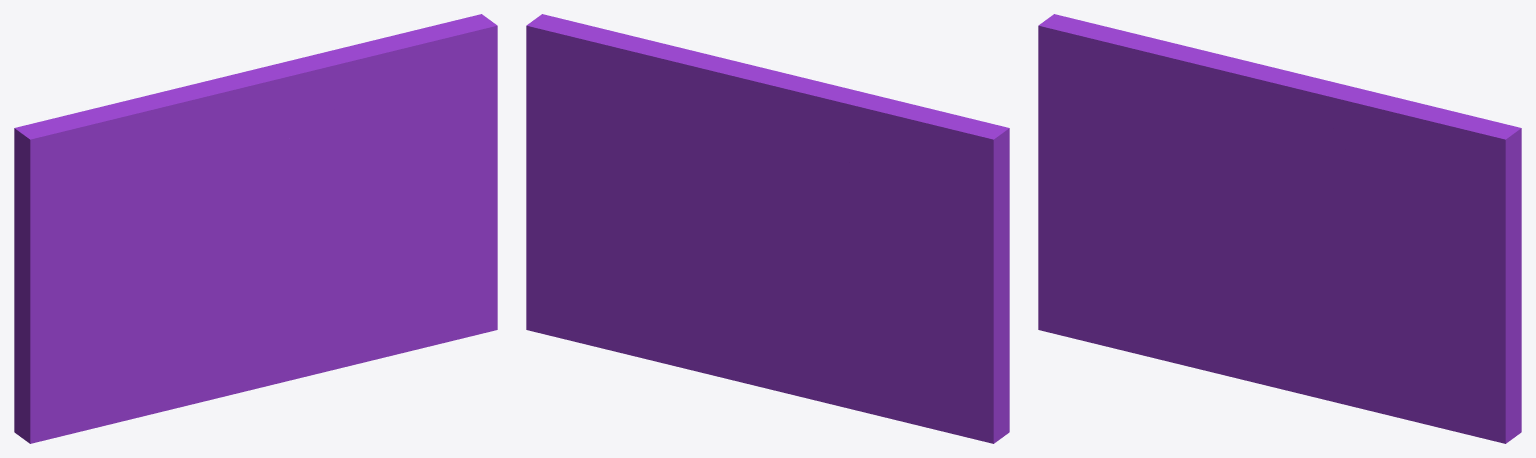
File: Barrier_215_chunks.fbx
The picture shows the model from 3 angles, left to right: view 1: azimuth 30°, elevation 25°; view 2: azimuth 150°, elevation 25°; view 3: azimuth 330°, elevation 25°; orthographic projection.
Parts seen in each view (by area): view 1: Barrier_215_1, Barrier_215_2, Barrier_215_0, Barrier_215_6, Barrier_215_3, Barrier_215_4, Barrier_215_5; view 2: Barrier_215_1, Barrier_215_2, Barrier_215_5, Barrier_215_6, Barrier_215_4, Barrier_215_0, Barrier_215_3; view 3: Barrier_215_1, Barrier_215_2, Barrier_215_0, Barrier_215_6, Barrier_215_3, Barrier_215_4, Barrier_215_5.
Part boxes in pixels (x1=…): Barrier_215_1: x1=275, y1=14, x2=497, y2=363; Barrier_215_2: x1=14, y1=196, x2=223, y2=443; Barrier_215_0: x1=141, y1=226, x2=357, y2=416; Barrier_215_6: x1=14, y1=100, x2=186, y2=238; Barrier_215_3: x1=144, y1=73, x2=339, y2=185; Barrier_215_4: x1=163, y1=113, x2=348, y2=243; Barrier_215_5: x1=130, y1=43, x2=388, y2=115; Barrier_215_1: x1=526, y1=14, x2=758, y2=370; Barrier_215_2: x1=747, y1=207, x2=1009, y2=443; Barrier_215_5: x1=648, y1=40, x2=879, y2=184; Barrier_215_6: x1=836, y1=100, x2=1009, y2=217; Barrier_215_4: x1=702, y1=137, x2=849, y2=223; Barrier_215_0: x1=696, y1=284, x2=800, y2=396; Barrier_215_3: x1=739, y1=62, x2=894, y2=102; Barrier_215_1: x1=1283, y1=98, x2=1521, y2=443; Barrier_215_2: x1=1038, y1=116, x2=1231, y2=356; Barrier_215_0: x1=1149, y1=223, x2=1365, y2=409; Barrier_215_6: x1=1038, y1=14, x2=1194, y2=189; Barrier_215_3: x1=1152, y1=51, x2=1347, y2=152; Barrier_215_4: x1=1171, y1=148, x2=1357, y2=231; Barrier_215_5: x1=1168, y1=42, x2=1399, y2=154.
Size of the model in its own units: 462 by 288 by 27.2.
